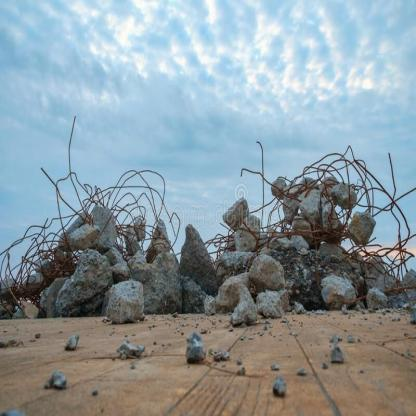rebar: (2, 110, 183, 311), (205, 139, 415, 297)
